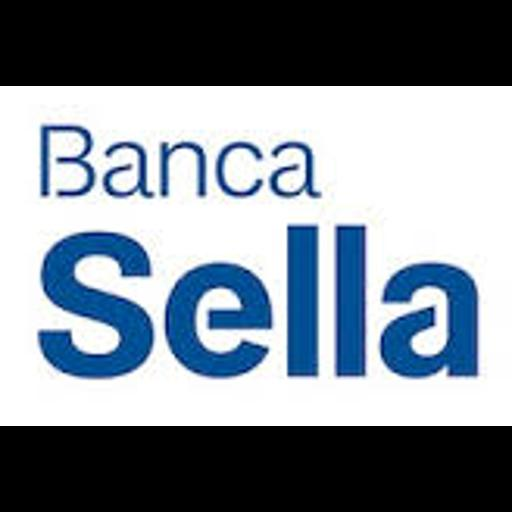Banca Sella: (0, 86, 512, 426)
